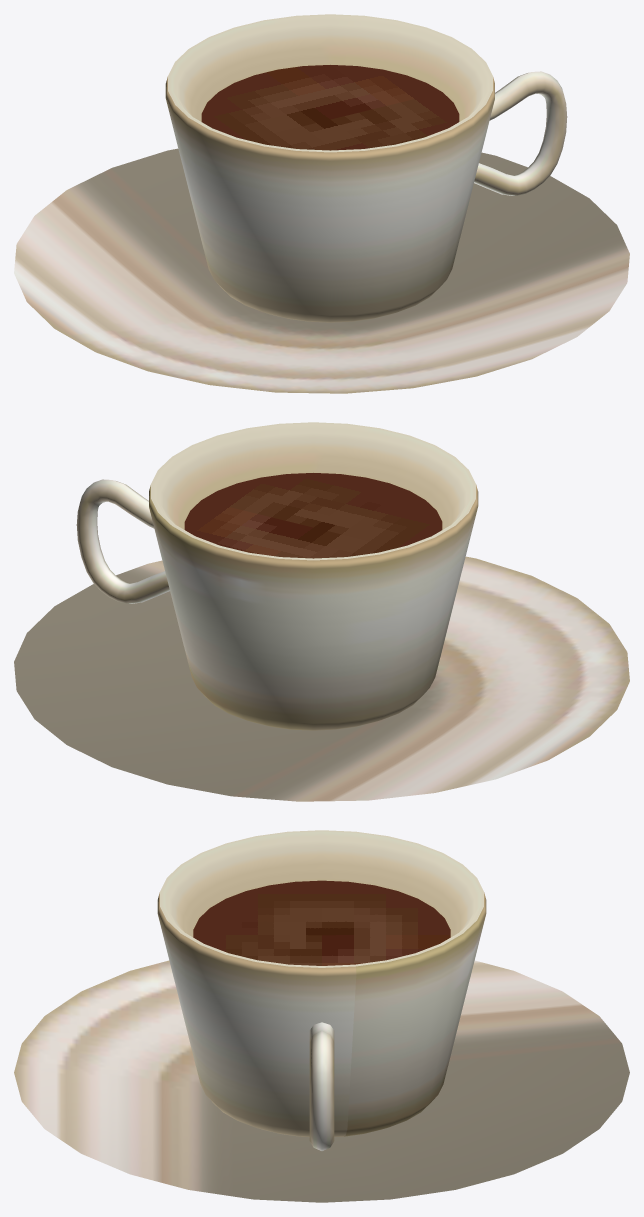
The model's file is tralala.gltf.
3 views of the same model, one above another, from view 1: azimuth 30°, elevation 25°; view 2: azimuth 150°, elevation 25°; view 3: azimuth 270°, elevation 25° (orthographic).
Visible parts, largest first — view 1: Mdl_0_Mtl_df_0_m, Mdl_0_Mtl_df_1_m; view 2: Mdl_0_Mtl_df_0_m, Mdl_0_Mtl_df_1_m; view 3: Mdl_0_Mtl_df_0_m, Mdl_0_Mtl_df_1_m.
Part boxes in pixels (x1,y1,x2,y2): Mdl_0_Mtl_df_0_m: (14,14,629,393); Mdl_0_Mtl_df_1_m: (201,65,459,150); Mdl_0_Mtl_df_0_m: (14,422,629,801); Mdl_0_Mtl_df_1_m: (184,473,442,558); Mdl_0_Mtl_df_0_m: (14,830,629,1202); Mdl_0_Mtl_df_1_m: (193,880,450,965).
Size of the model in its own units: 0.03 by 0.0114 by 0.03.
2 materials, 2 textured.
